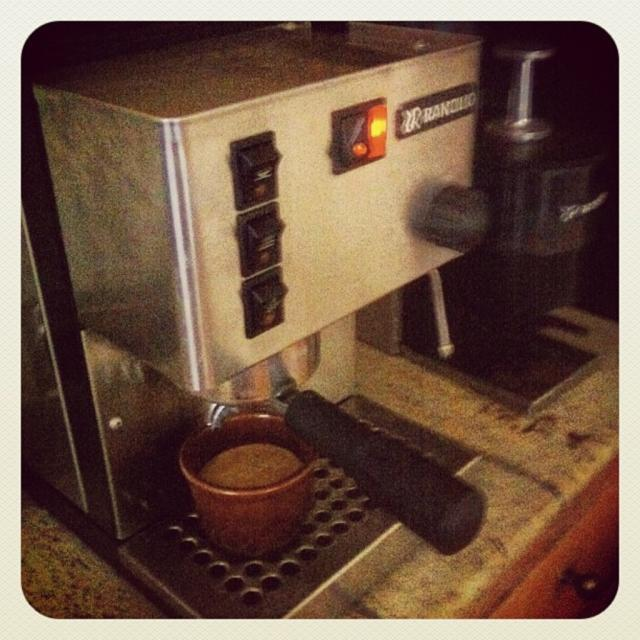Coffee-Machine: (18, 1, 566, 536)
